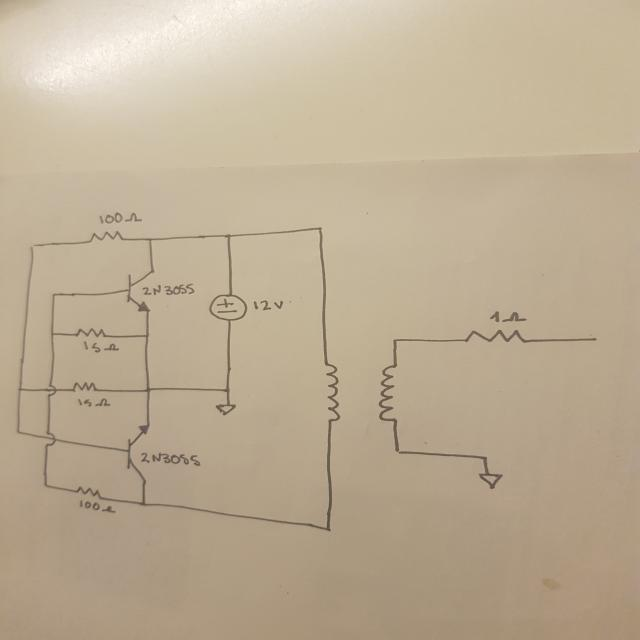crossover: (42, 432, 58, 448), (45, 383, 58, 399)
ground: (477, 469, 504, 491), (214, 402, 237, 419)
junction: (311, 224, 330, 236), (320, 522, 336, 534), (390, 446, 406, 457), (390, 337, 404, 348), (222, 231, 237, 241), (47, 290, 60, 301), (141, 386, 155, 396), (40, 481, 54, 491), (220, 385, 233, 395), (13, 427, 26, 437), (138, 499, 149, 510), (27, 241, 39, 251), (47, 330, 60, 339), (140, 332, 152, 341), (14, 385, 26, 394), (478, 454, 490, 462), (144, 237, 156, 244)
resistor: (462, 328, 528, 346), (87, 228, 124, 245), (66, 379, 102, 394), (72, 326, 110, 340), (75, 483, 104, 500)
source: (206, 291, 250, 322)
terminal: (587, 335, 602, 343)
text: (138, 449, 202, 468), (141, 283, 194, 298), (93, 211, 144, 225), (487, 308, 528, 324), (252, 300, 288, 316), (74, 502, 114, 514), (82, 341, 121, 352), (74, 396, 110, 407)
transformer: (319, 355, 401, 427)
transistor: (122, 422, 152, 482), (124, 265, 156, 315)
